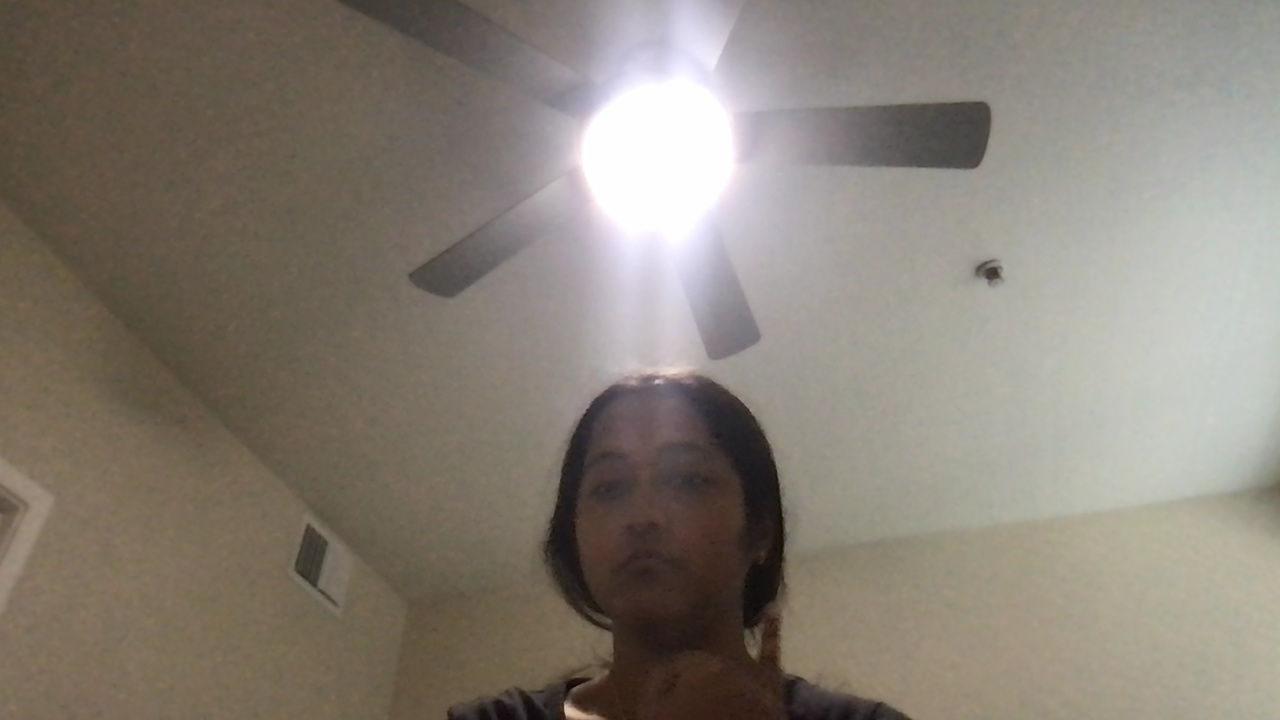j: (662, 606, 793, 713)
